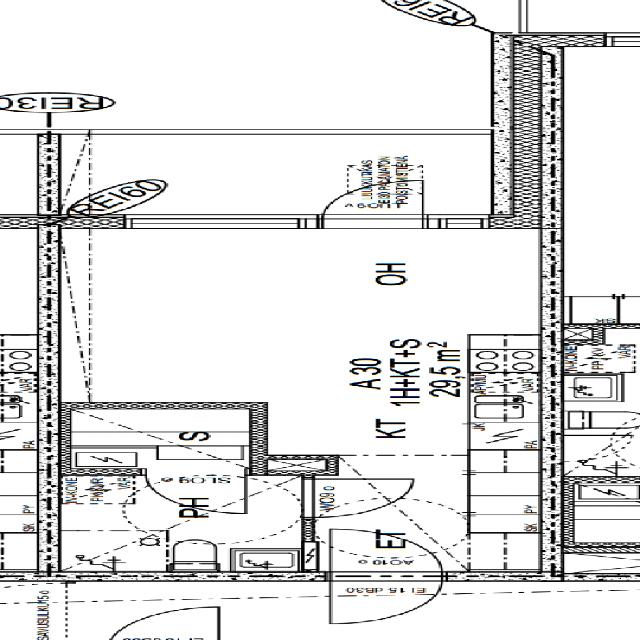door: (330, 573, 444, 626), (330, 529, 444, 582), (321, 176, 422, 229), (302, 479, 415, 518), (146, 468, 243, 512)
